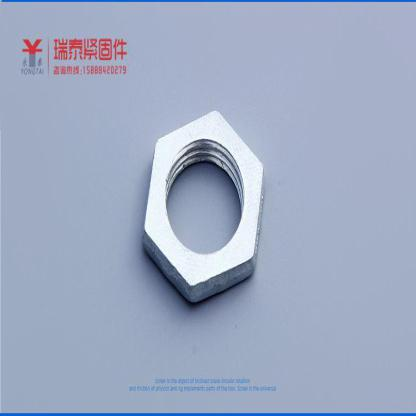FOD: (139, 103, 268, 308)
